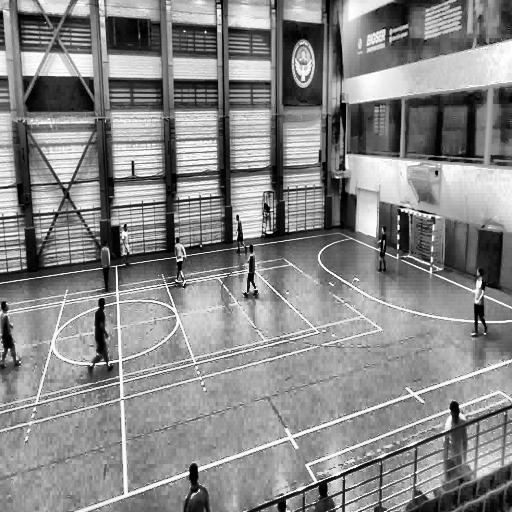ball: (200, 244, 205, 254)
player: (442, 401, 470, 487), (89, 298, 114, 372), (0, 300, 23, 368), (469, 267, 488, 334), (243, 243, 258, 297), (174, 238, 187, 288), (100, 238, 112, 290), (377, 226, 387, 273), (236, 215, 247, 252), (122, 224, 130, 266)
